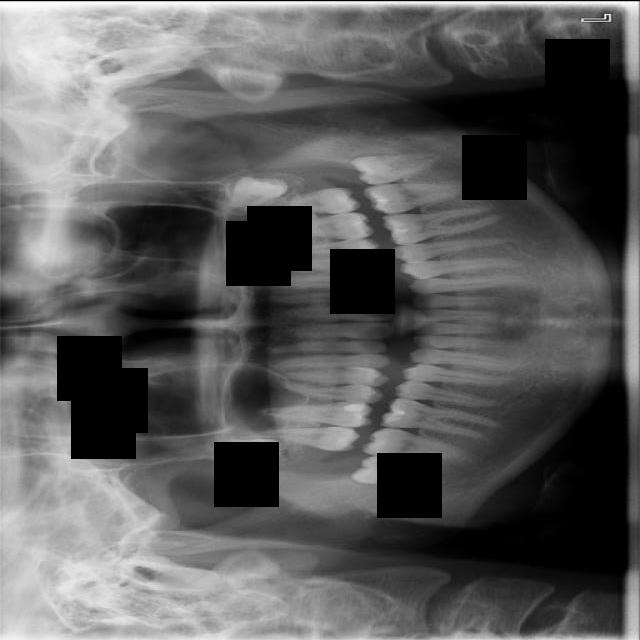3M ESPE Implant: (203, 432, 288, 462)
52: (361, 176, 403, 223), (378, 391, 421, 435), (380, 209, 421, 248), (332, 400, 374, 427)
73: (617, 12, 623, 18)
BioHorizons Implant: (253, 186, 363, 215)
BioLife Implant: (215, 161, 291, 220)
Biomet 3i Implant: (349, 148, 445, 188)
Blue Sky Bio Implant: (361, 177, 469, 216)
Caries: (244, 418, 361, 452)
Implant: (362, 426, 471, 460)
Keystone Dental Implant: (350, 452, 451, 492)
